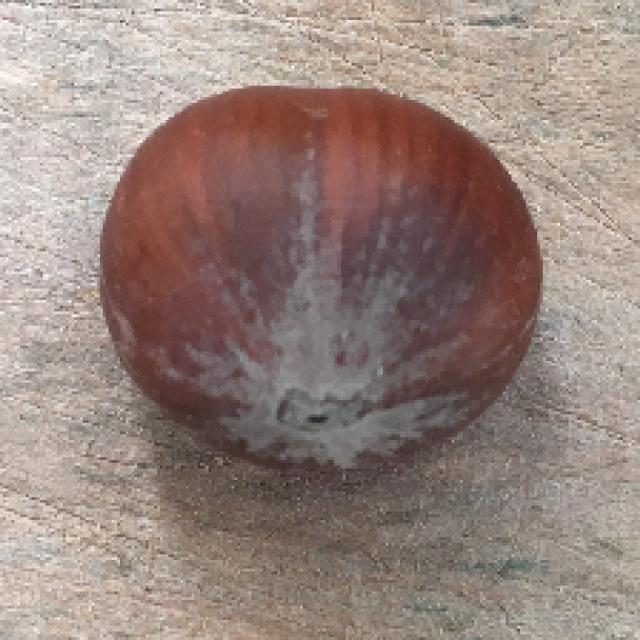DamagedHazelnut: (101, 86, 541, 481)
